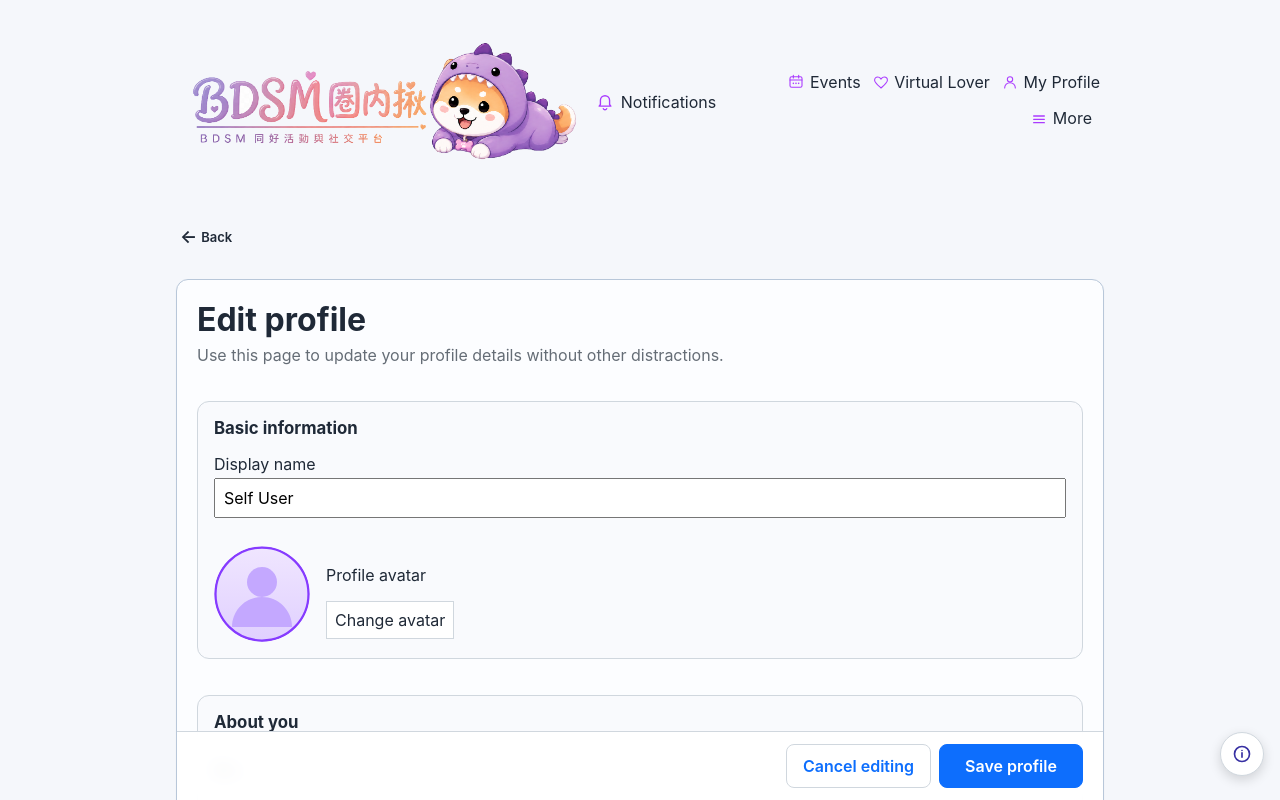
EditProfilePage › opens an accessible avatar picker and restores focus when closed
The width and height of the screenshot is (1280, 800).
Expected: the field showing "Self User" is shown, top-left (214, 478), bottom-right (1066, 518)
Click the button "Change avatar" at x=390, y=620, box top-left (326, 601), bottom-right (454, 639)
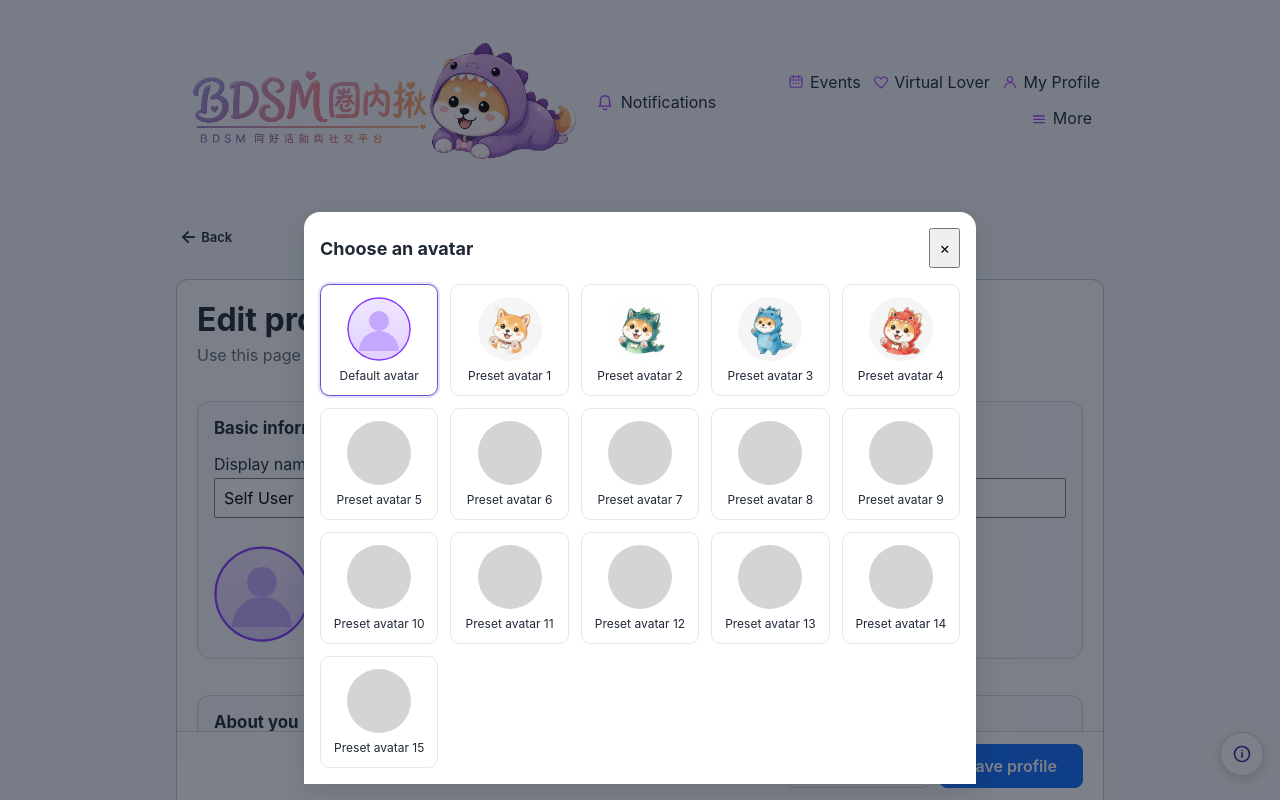
Now the dialog "Choose an avatar" is shown, box top-left (304, 212), bottom-right (976, 784)
Now the radio button labelled "Default avatar" is shown, box top-left (320, 284), bottom-right (438, 396)
Press Escape
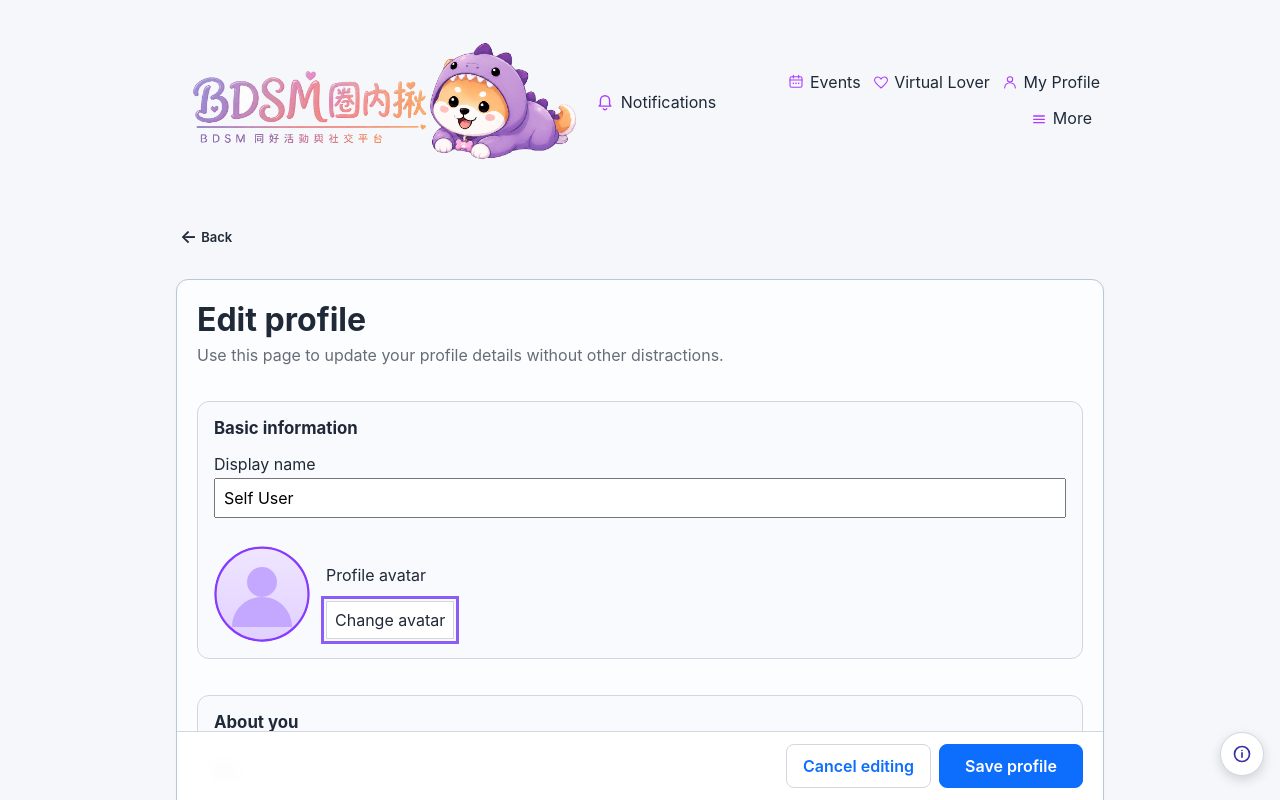
Now the dialog is gone
